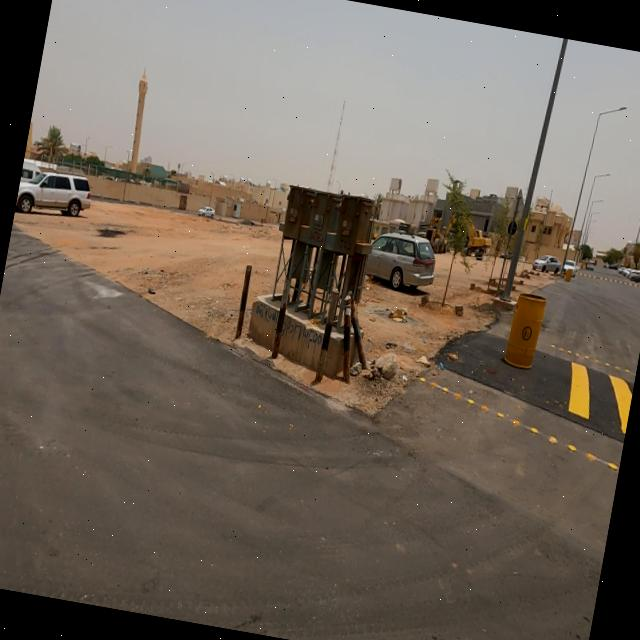Graffiti: (278, 320, 325, 358), (254, 303, 281, 325), (306, 230, 327, 248)
